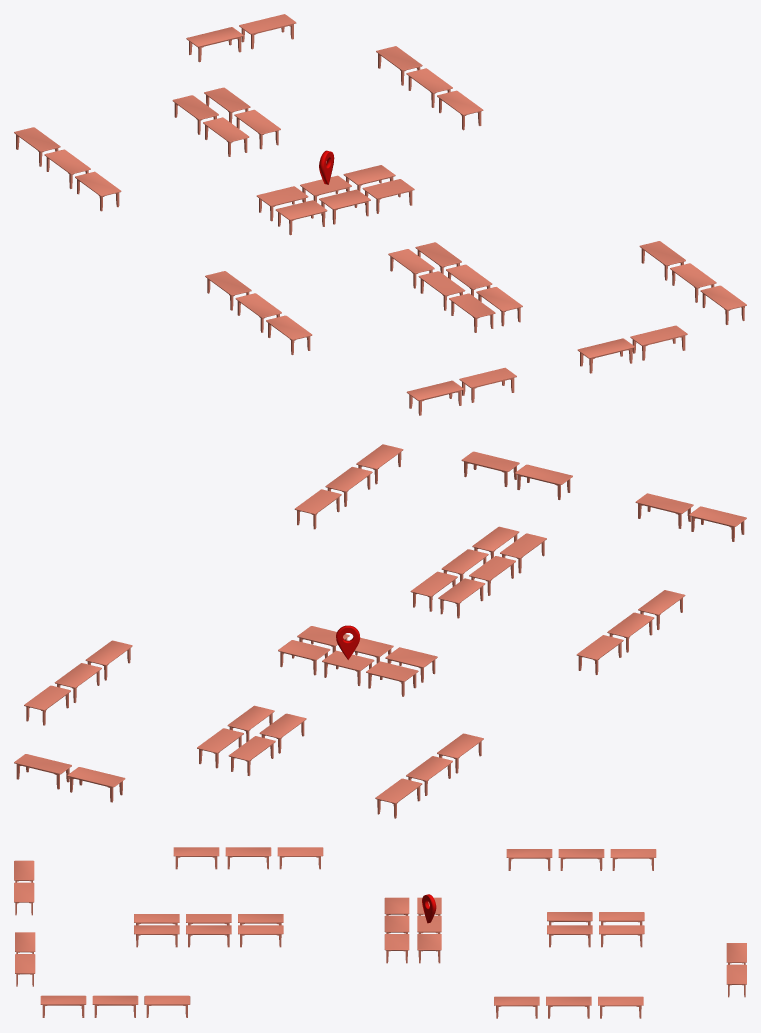
The model's file is boothCourtV2.glb.
3 renders of one model, top to bottom at view 1: azimuth 30°, elevation 25°; view 2: azimuth 150°, elevation 25°; view 3: azimuth 270°, elevation 25°, orthographic. The views are drawn at different scales.
Visible parts, largest first — view 1: old_table.014; view 2: old_table.014; view 3: old_table.014.
Part boxes in pixels (<box>): old_table.014: <box>14,14,746,415</box>; old_table.014: <box>14,444,746,818</box>; old_table.014: <box>14,847,746,1018</box>.
Size of the model in its own units: 22.39 by 2.82 by 43.91.
